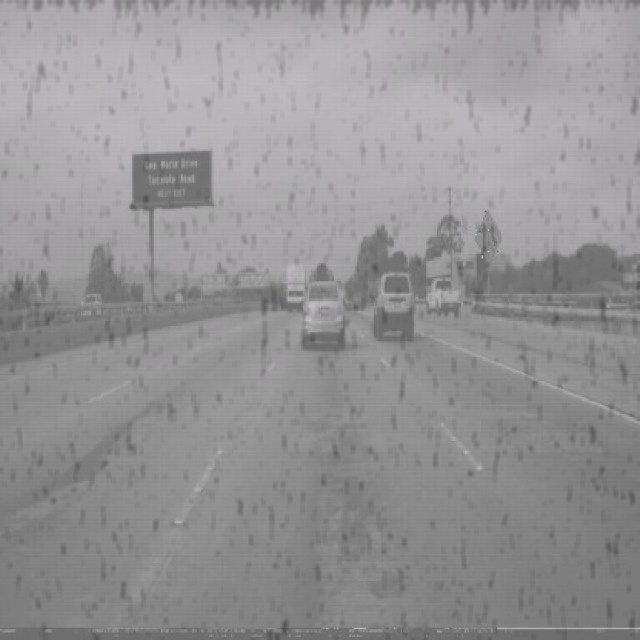addedLane: (474, 209, 502, 265)
